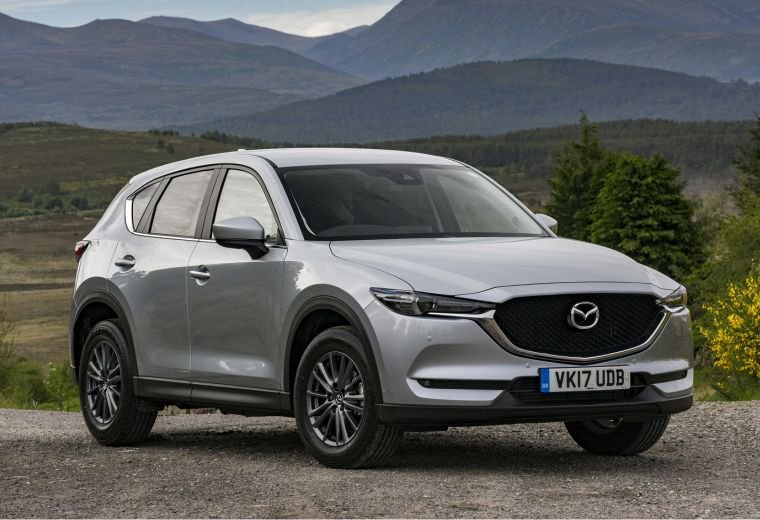car: (70, 146, 695, 454)
